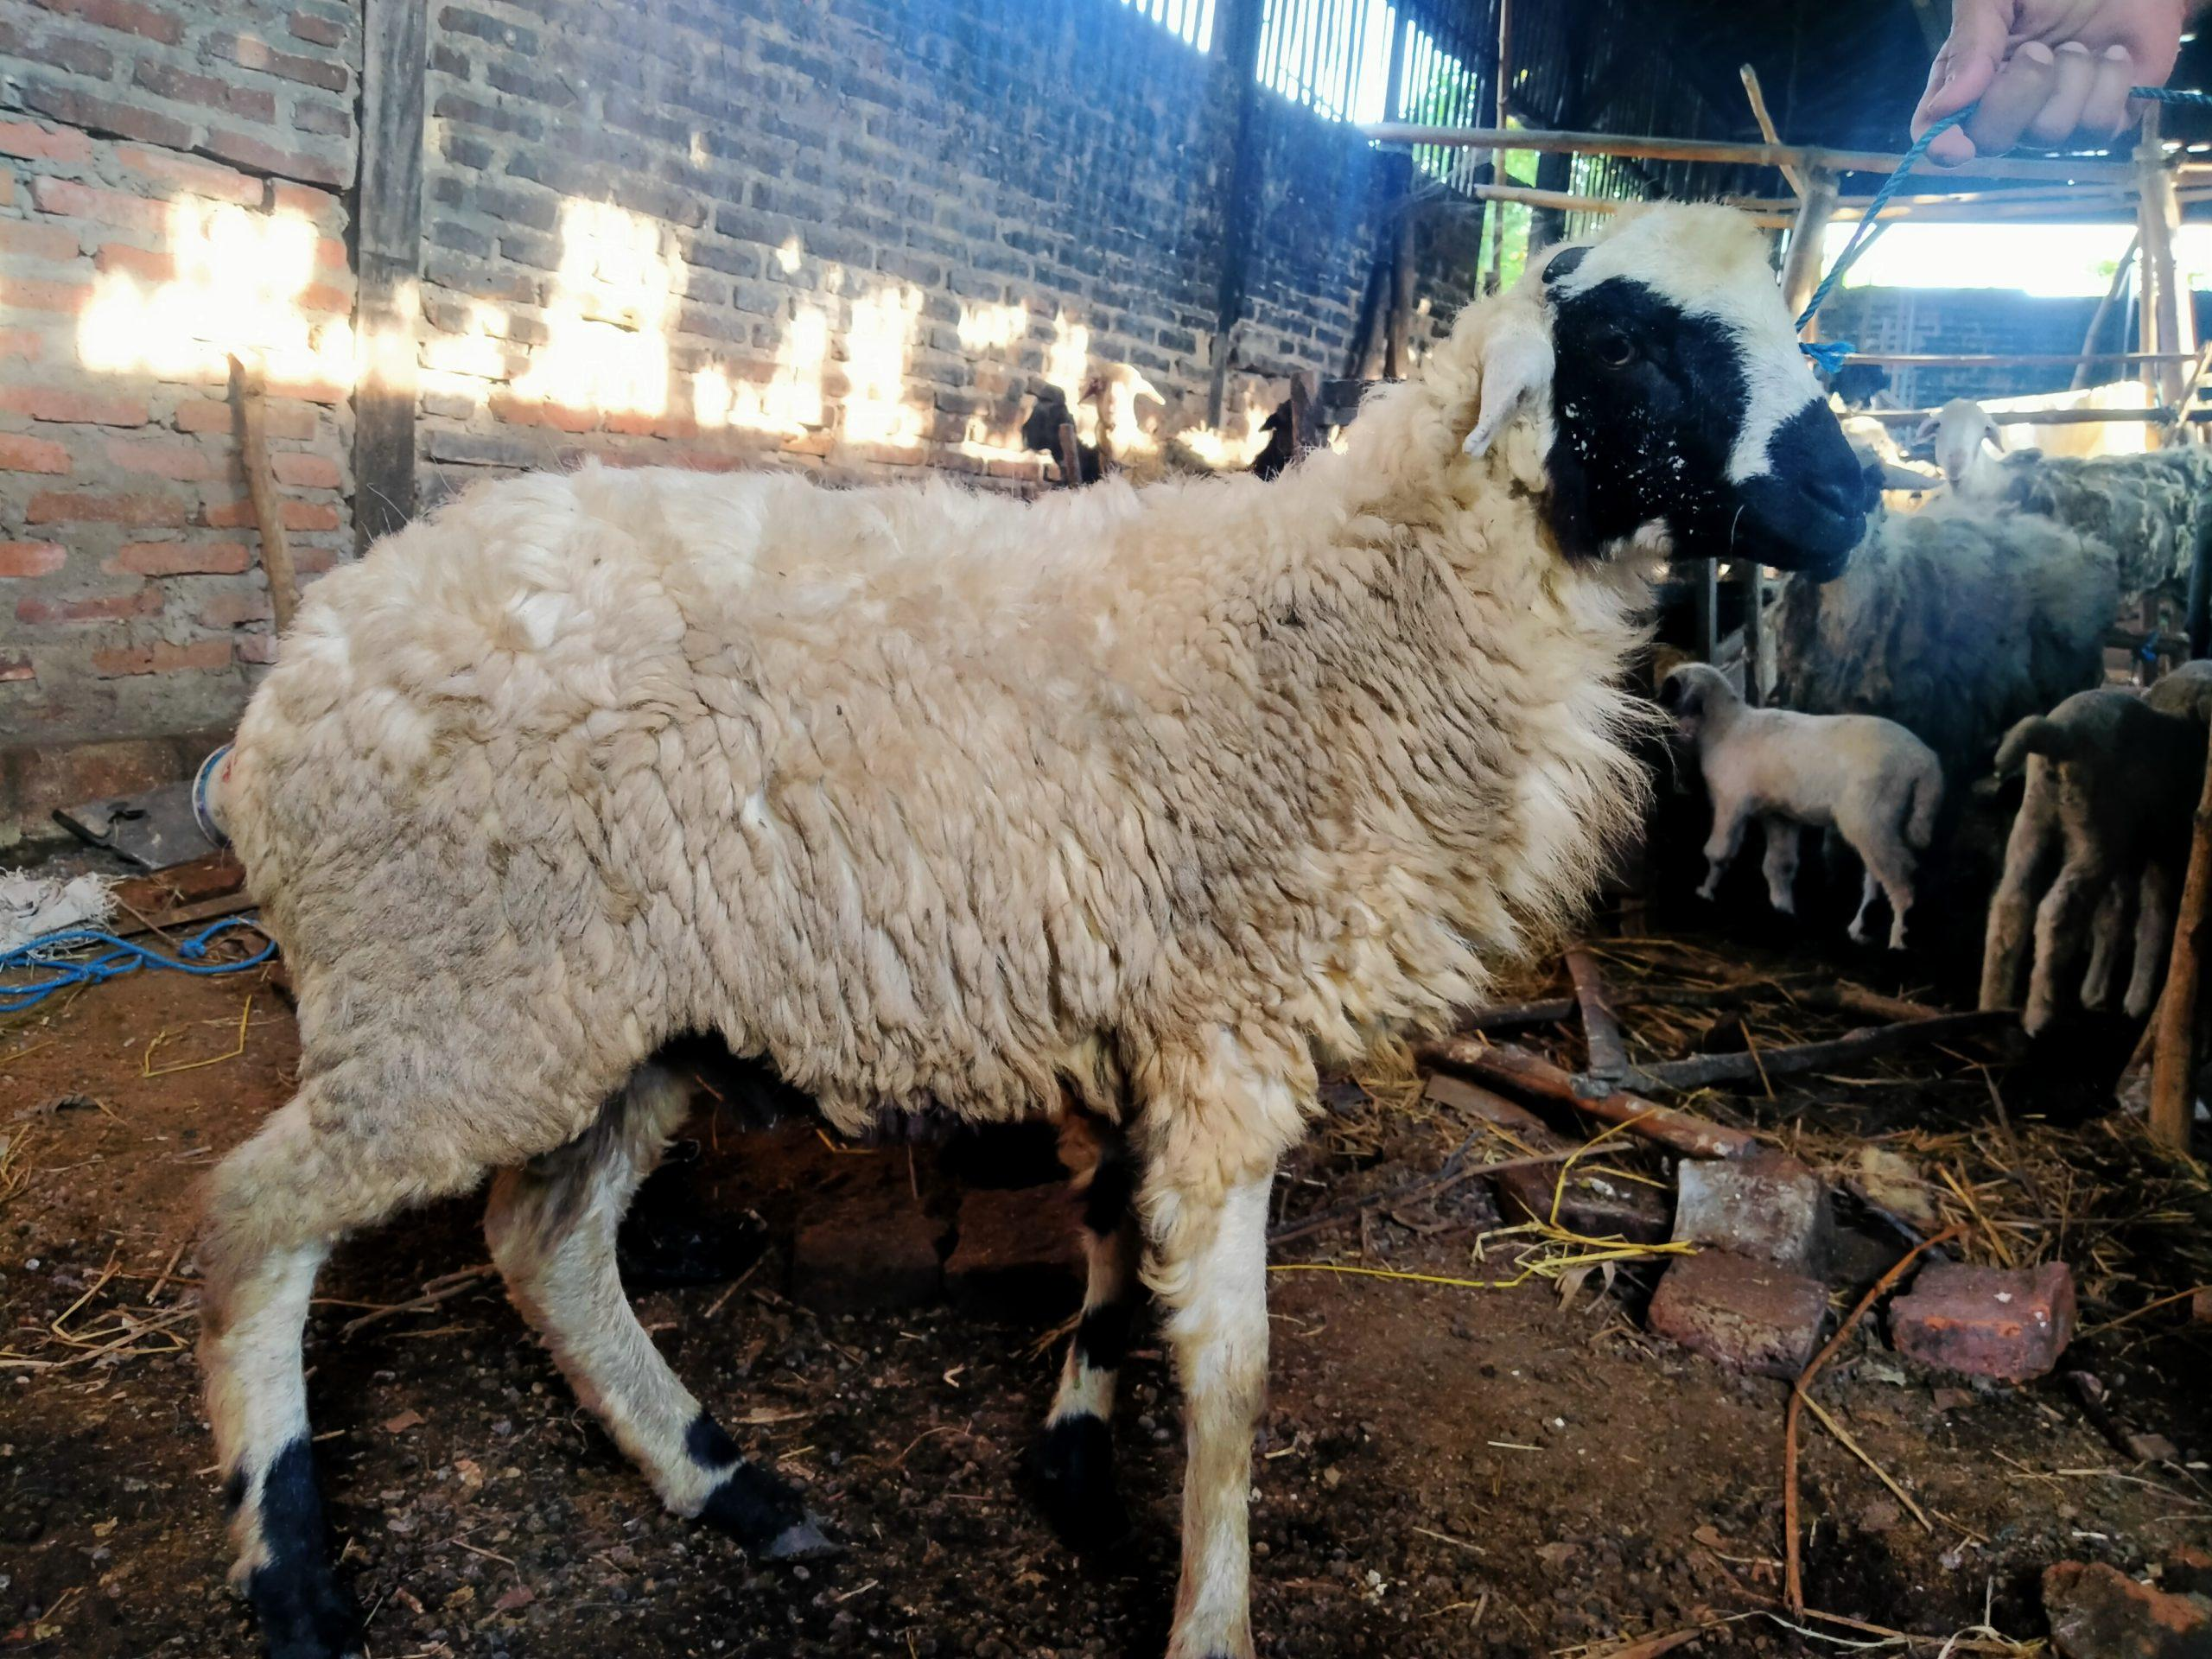Sheep: (1406, 127, 1876, 655)
